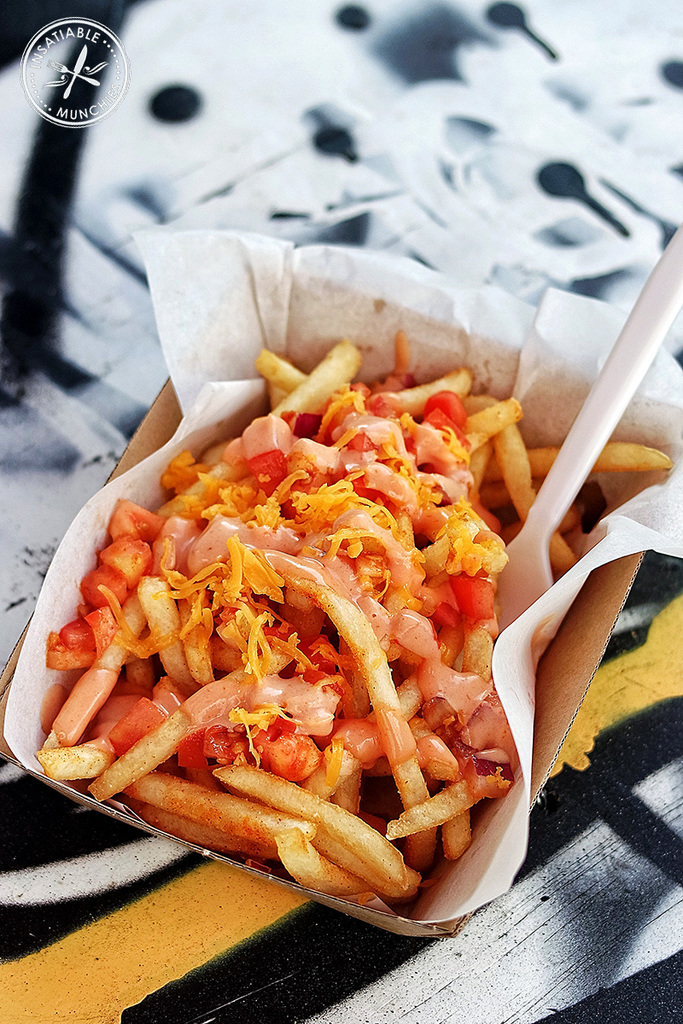French fries: (31, 329, 671, 925)
